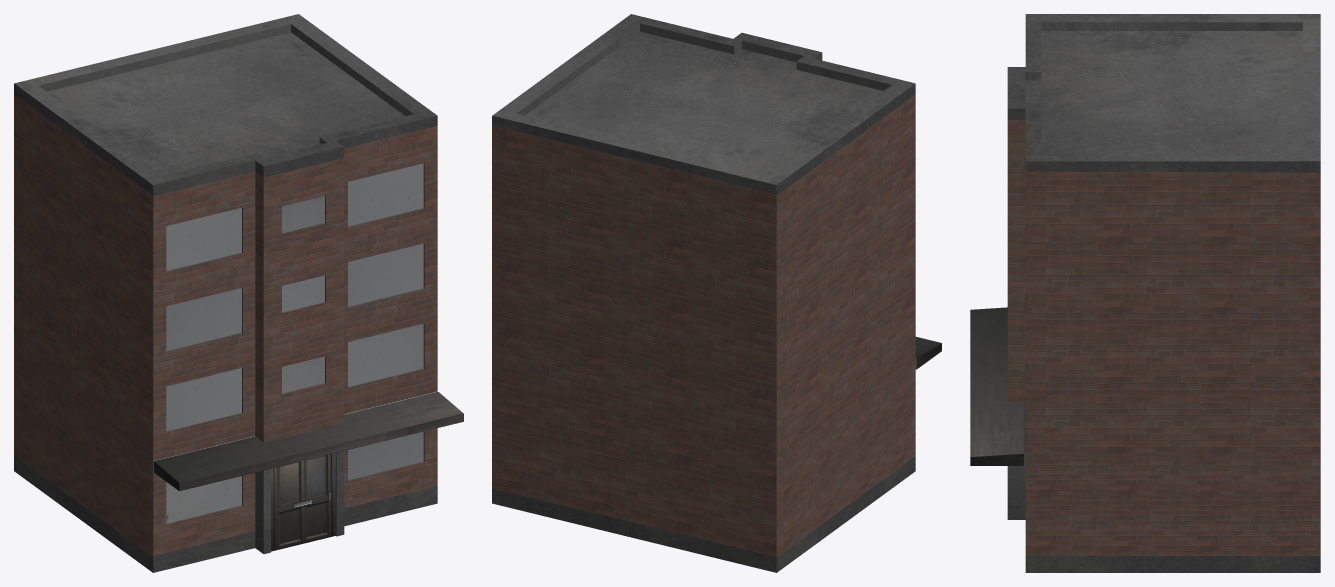
File: RSBrickBuildingWoodenDoor2.fbx
3 views of the same model, side by side, from view 1: azimuth 30°, elevation 25°; view 2: azimuth 150°, elevation 25°; view 3: azimuth 270°, elevation 25° (orthographic). The views are drawn at different scales.
Parts seen in each view (by area): view 1: Building Sky_small_color01; view 2: Building Sky_small_color01; view 3: Building Sky_small_color01.
Part boxes in pixels (<box>): Building Sky_small_color01: <box>14,14,463,572</box>; Building Sky_small_color01: <box>492,14,941,572</box>; Building Sky_small_color01: <box>970,14,1320,572</box>.
Bounding box in the file's own units: 1300 × 1693 × 1307.
1 material, 1 textured.
